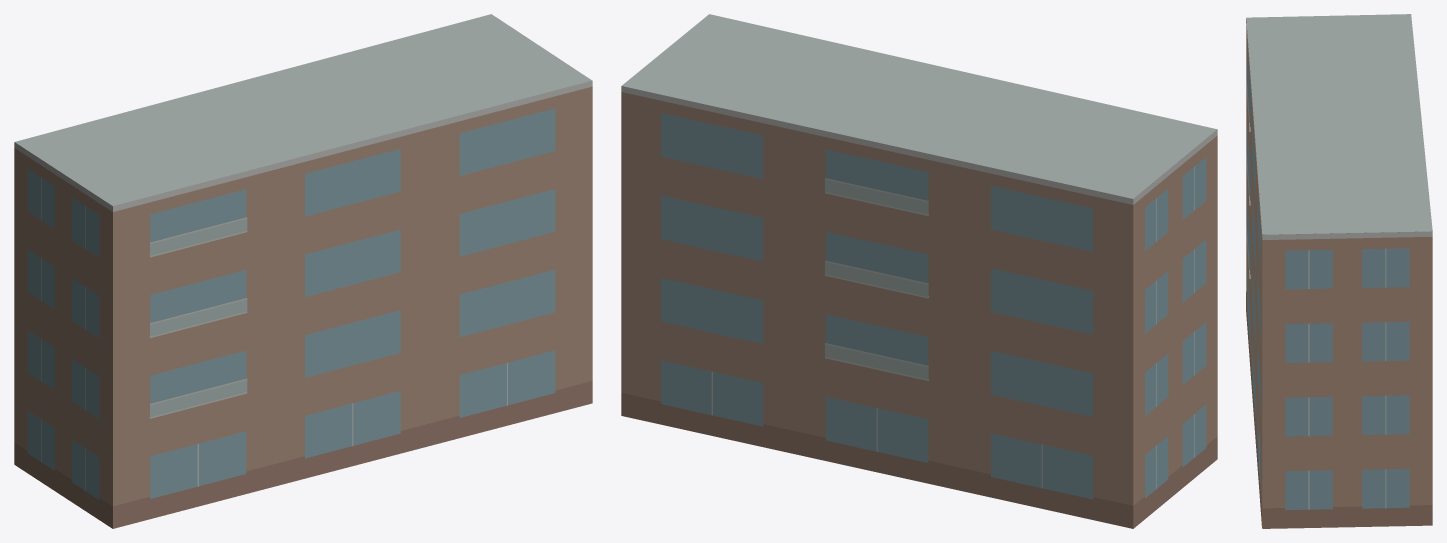
The model's file is survey-upis-32628236.glb.
The picture shows the model from 3 angles, left to right: view 1: azimuth 30°, elevation 25°; view 2: azimuth 150°, elevation 25°; view 3: azimuth 270°, elevation 25°; orthographic projection. The views are drawn at different scales.
Visible parts, largest first — view 1: survey-upis-32628236.tmp; view 2: survey-upis-32628236.tmp; view 3: survey-upis-32628236.tmp.
Part boxes in pixels (left/top/right/bottom): survey-upis-32628236.tmp: left=14, top=14, right=592, bottom=528; survey-upis-32628236.tmp: left=621, top=14, right=1217, bottom=528; survey-upis-32628236.tmp: left=1246, top=14, right=1432, bottom=528.
Bounding box in the file's own units: 21.58 × 13.4 × 7.71.
